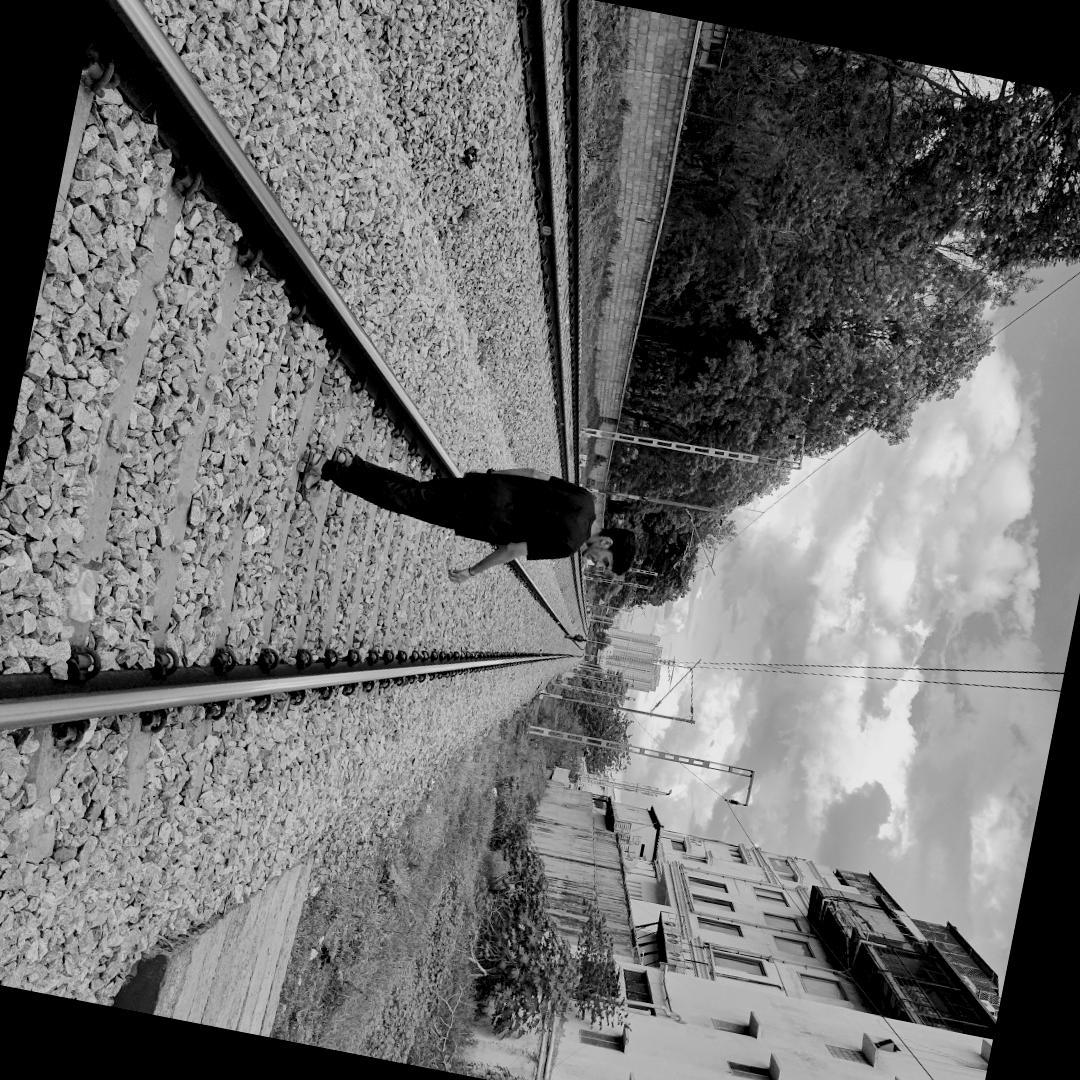standing: (284, 419, 650, 604)
